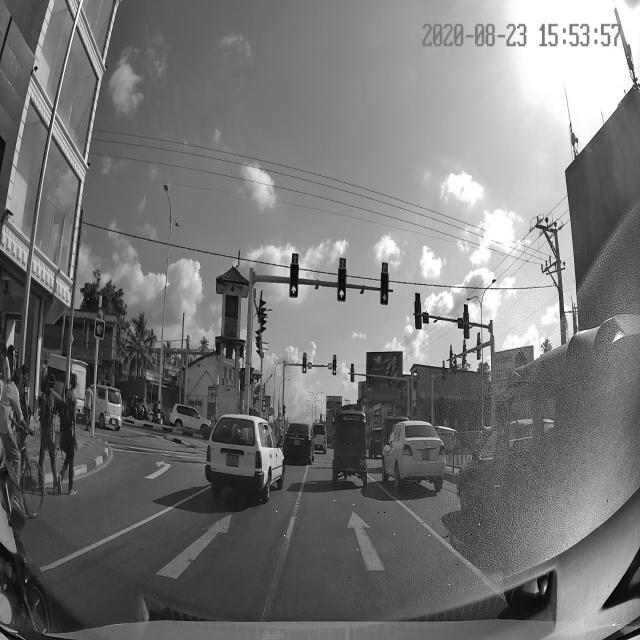forward: (267, 498, 482, 589)
